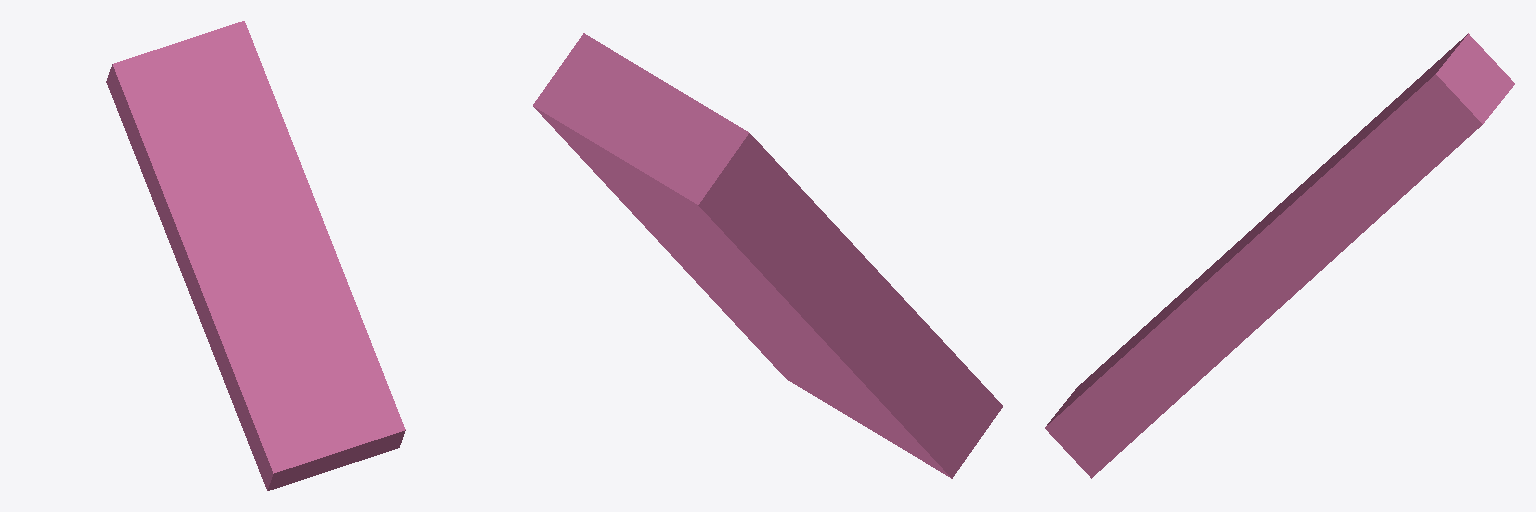
The robot description file, URDF, robot "panda":
<?xml version="1.0"?>
<!-- =================================================================================== -->
<!-- |    This document was autogenerated by xacro from /opt/ros/noetic/share/franka_description/robots/panda/panda.urdf.xacro | -->
<!-- |    EDITING THIS FILE BY HAND IS NOT RECOMMENDED                                 | -->
<!-- =================================================================================== -->
<robot name="panda">
    <!-- sub-link defining detailed meshes for collision with environment -->
    <link name="panda_link0">
        <visual>
            <geometry>
                <mesh filename="package://franka_description/meshes/visual/link0.dae" />
            </geometry>
        </visual>
        <collision>
            <geometry>
                <mesh filename="package://franka_description/meshes/collision/link0.stl" />
            </geometry>
        </collision>
        <inertial>
            <origin rpy="0 0 0" xyz="-0.0 -0.0000 0.00" />
            <mass value="0.629769" />
            <inertia ixx="0.00315" ixy="8.2904e-07" ixz="0.00015" iyy="0.00388" iyz="8.2299e-06" izz="0.004285" />
        </inertial>
    </link>
    <!-- sub-link defining coarse geometries of real robot's internal self-collision -->
    <link name="panda_link0_sc"></link>
    <!-- fixed joint between both sub-links -->
    <joint name="panda_link0_sc_joint" type="fixed">
        <origin rpy="0 0 0" />
        <parent link="panda_link0" />
        <child link="panda_link0_sc" />
    </joint>
    <!-- sub-link defining detailed meshes for collision with environment -->
    <link name="panda_link1">
        <visual>
            <geometry>
                <mesh filename="package://franka_description/meshes/visual/link1.dae" />
            </geometry>
        </visual>
        <collision>
            <geometry>
                <mesh filename="package://franka_description/meshes/collision/link1.stl" />
            </geometry>
        </collision>
        <inertial>
            <origin rpy="0 0 0" xyz="0.003875 0.002081 -0.04762" />
            <mass value="4.970684" />
            <inertia ixx="0.70337" ixy="-0.000139" ixz="0.006772" iyy="0.70661" iyz="0.019169" izz="0.009117" />
        </inertial>
    </link>
    <!-- sub-link defining coarse geometries of real robot's internal self-collision -->
    <link name="panda_link1_sc"></link>
    <!-- fixed joint between both sub-links -->
    <joint name="panda_link1_sc_joint" type="fixed">
        <origin rpy="0 0 0" />
        <parent link="panda_link1" />
        <child link="panda_link1_sc" />
    </joint>
    <joint name="panda_joint1" type="revolute">
        <origin rpy="0 0 0" xyz="0 0 0.333" />
        <parent link="panda_link0" />
        <child link="panda_link1" />
        <axis xyz="0 0 1" />
        <limit effort="87.0" lower="-2.8973" upper="2.8973" velocity="2.175" />
        <safety_controller k_position="100.0" k_velocity="40.0" soft_lower_limit="-2.8973" soft_upper_limit="2.8973" />
        <dynamics D="1" K="7000" damping="0.003" friction="0.0" mu_coulomb="0" mu_viscous="16" />
    </joint>
    <!-- sub-link defining detailed meshes for collision with environment -->
    <link name="panda_link2">
        <visual>
            <geometry>
                <mesh filename="package://franka_description/meshes/visual/link2.dae" />
            </geometry>
        </visual>
        <collision>
            <geometry>
                <mesh filename="package://franka_description/meshes/collision/link2.stl" />
            </geometry>
        </collision>
        <inertial>
            <origin rpy="0 0 0" xyz="-0.003141 -0.02872  0.003495" />
            <mass value="0.646926" />
            <inertia ixx="0.007962" ixy="-0.003925" ixz="0.010254" iyy="0.02811" iyz="0.000704" izz="0.025995" />
        </inertial>
    </link>
    <!-- sub-link defining coarse geometries of real robot's internal self-collision -->
    <link name="panda_link2_sc"></link>
    <!-- fixed joint between both sub-links -->
    <joint name="panda_link2_sc_joint" type="fixed">
        <origin rpy="0 0 0" />
        <parent link="panda_link2" />
        <child link="panda_link2_sc" />
    </joint>
    <joint name="panda_joint2" type="revolute">
        <origin rpy="-1.5707963267948966 0 0" xyz="0 0 0" />
        <parent link="panda_link1" />
        <child link="panda_link2" />
        <axis xyz="0 0 1" />
        <limit effort="87.0" lower="-1.7628" upper="1.7628" velocity="2.175" />
        <safety_controller k_position="100.0" k_velocity="40.0" soft_lower_limit="-1.7628" soft_upper_limit="1.7628" />
        <dynamics D="1" K="7000" damping="0.003" friction="0.0" mu_coulomb="0" mu_viscous="16" />
    </joint>
    <!-- sub-link defining detailed meshes for collision with environment -->
    <link name="panda_link3">
        <visual>
            <geometry>
                <mesh filename="package://franka_description/meshes/visual/link3.dae" />
            </geometry>
        </visual>
        <collision>
            <geometry>
                <mesh filename="package://franka_description/meshes/collision/link3.stl" />
            </geometry>
        </collision>
        <inertial>
            <origin rpy="0 0 0" xyz="2.7518e-02 3.9252e-02 -6.6502e-02" />
            <mass value="3.228604" />
            <inertia ixx="0.037242" ixy="-0.004761" ixz="-0.011396" iyy="0.036155" iyz="-0.012805" izz="0.01083" />
        </inertial>
    </link>
    <!-- sub-link defining coarse geometries of real robot's internal self-collision -->
    <link name="panda_link3_sc"></link>
    <!-- fixed joint between both sub-links -->
    <joint name="panda_link3_sc_joint" type="fixed">
        <origin rpy="0 0 0" />
        <parent link="panda_link3" />
        <child link="panda_link3_sc" />
    </joint>
    <joint name="panda_joint3" type="revolute">
        <origin rpy="1.5707963267948966 0 0" xyz="0 -0.316 0" />
        <parent link="panda_link2" />
        <child link="panda_link3" />
        <axis xyz="0 0 1" />
        <limit effort="87.0" lower="-2.8973" upper="2.8973" velocity="2.175" />
        <safety_controller k_position="100.0" k_velocity="40.0" soft_lower_limit="-2.8973" soft_upper_limit="2.8973" />
        <dynamics D="1" K="7000" damping="0.003" friction="0.0" mu_coulomb="0" mu_viscous="16" />
    </joint>
    <!-- sub-link defining detailed meshes for collision with environment -->
    <link name="panda_link4">
        <visual>
            <geometry>
                <mesh filename="package://franka_description/meshes/visual/link4.dae" />
            </geometry>
        </visual>
        <collision>
            <geometry>
                <mesh filename="package://franka_description/meshes/collision/link4.stl" />
            </geometry>
        </collision>
        <inertial>
            <origin rpy="0 0 0" xyz="-5.317e-02 1.04419e-01 2.7454e-02" />
            <mass value="3.587895" />
            <inertia ixx="0.025853" ixy="0.007796" ixz="-0.001332" iyy="0.019552" iyz="0.008641" izz="0.028323" />
        </inertial>
    </link>
    <!-- sub-link defining coarse geometries of real robot's internal self-collision -->
    <link name="panda_link4_sc"></link>
    <!-- fixed joint between both sub-links -->
    <joint name="panda_link4_sc_joint" type="fixed">
        <origin rpy="0 0 0" />
        <parent link="panda_link4" />
        <child link="panda_link4_sc" />
    </joint>
    <joint name="panda_joint4" type="revolute">
        <origin rpy="1.5707963267948966 0 0" xyz="0.0825 0 0" />
        <parent link="panda_link3" />
        <child link="panda_link4" />
        <axis xyz="0 0 1" />
        <limit effort="87.0" lower="-3.0718" upper="-0.0698" velocity="2.175" />
        <safety_controller k_position="100.0" k_velocity="40.0" soft_lower_limit="-3.0718" soft_upper_limit="-0.0698" />
        <dynamics D="1" K="7000" damping="0.003" friction="0.0" mu_coulomb="0" mu_viscous="16" />
    </joint>
    <!-- sub-link defining detailed meshes for collision with environment -->
    <link name="panda_link5">
        <visual>
            <geometry>
                <mesh filename="package://franka_description/meshes/visual/link5.dae" />
            </geometry>
        </visual>
        <collision>
            <geometry>
                <mesh filename="package://franka_description/meshes/collision/link5.stl" />
            </geometry>
        </collision>
        <inertial>
            <origin rpy="0 0 0" xyz="-1.1953e-02 4.1065e-02 -3.8437e-02" />
            <mass value="1.225946" />
            <inertia ixx="0.035549" ixy="-0.002117" ixz="-0.004037" iyy="0.029474" iyz="0.000229" izz="0.008627" />
        </inertial>
    </link>
    <!-- sub-link defining coarse geometries of real robot's internal self-collision -->
    <link name="panda_link5_sc"></link>
    <!-- fixed joint between both sub-links -->
    <joint name="panda_link5_sc_joint" type="fixed">
        <origin rpy="0 0 0" />
        <parent link="panda_link5" />
        <child link="panda_link5_sc" />
    </joint>
    <joint name="panda_joint5" type="revolute">
        <origin rpy="-1.5707963267948966 0 0" xyz="-0.0825 0.384 0" />
        <parent link="panda_link4" />
        <child link="panda_link5" />
        <axis xyz="0 0 1" />
        <limit effort="12.0" lower="-2.8973" upper="2.8973" velocity="2.61" />
        <safety_controller k_position="100.0" k_velocity="40.0" soft_lower_limit="-2.8973" soft_upper_limit="2.8973" />
        <dynamics D="1" K="7000" damping="0.003" friction="0.0" mu_coulomb="0" mu_viscous="16" />
    </joint>
    <!-- sub-link defining detailed meshes for collision with environment -->
    <link name="panda_link6">
        <visual>
            <geometry>
                <mesh filename="package://franka_description/meshes/visual/link6.dae" />
            </geometry>
        </visual>
        <collision>
            <geometry>
                <mesh filename="package://franka_description/meshes/collision/link6.stl" />
            </geometry>
        </collision>
        <inertial>
            <origin rpy="0 0 0" xyz="6.0149e-02 -1.4117e-02 -1.0517e-02" />
            <mass value="1.666555" />
            <inertia ixx="0.001964" ixy="0.000109" ixz="-0.001158" iyy="0.004354" iyz="0.000341" izz="0.005433" />
        </inertial>
    </link>
    <!-- sub-link defining coarse geometries of real robot's internal self-collision -->
    <link name="panda_link6_sc"></link>
    <!-- fixed joint between both sub-links -->
    <joint name="panda_link6_sc_joint" type="fixed">
        <origin rpy="0 0 0" />
        <parent link="panda_link6" />
        <child link="panda_link6_sc" />
    </joint>
    <joint name="panda_joint6" type="revolute">
        <origin rpy="1.5707963267948966 0 0" xyz="0 0 0" />
        <parent link="panda_link5" />
        <child link="panda_link6" />
        <axis xyz="0 0 1" />
        <limit effort="12.0" lower="-0.0175" upper="3.7525" velocity="2.61" />
        <safety_controller k_position="100.0" k_velocity="40.0" soft_lower_limit="-0.0175" soft_upper_limit="3.7525" />
        <dynamics D="1" K="7000" damping="0.003" friction="0.0" mu_coulomb="0" mu_viscous="16" />
    </joint>
    <!-- sub-link defining detailed meshes for collision with environment -->
    <link name="panda_link7">
        <visual>
            <geometry>
                <mesh filename="package://franka_description/meshes/visual/link7.dae" />
            </geometry>
        </visual>
        <collision>
            <geometry>
                <mesh filename="package://franka_description/meshes/collision/link7.stl" />
            </geometry>
        </collision>
        <inertial>
            <origin rpy="0 0 0" xyz="1.0517e-02 -4.252e-03 6.1597e-02" />
            <mass value="0.735522" />
            <inertia ixx="0.012516" ixy="-0.000428" ixz="-0.001196" iyy="0.010027" iyz="-0.000741" izz="0.004815" />
        </inertial>
    </link>
    <!-- sub-link defining coarse geometries of real robot's internal self-collision -->
    <link name="panda_link7_sc"></link>
    <!-- fixed joint between both sub-links -->
    <joint name="panda_link7_sc_joint" type="fixed">
        <origin rpy="0 0 0.7853981633974483" />
        <parent link="panda_link7" />
        <child link="panda_link7_sc" />
    </joint>
    <joint name="panda_joint7" type="revolute">
        <origin rpy="1.5707963267948966 0 0" xyz="0.088 0 0" />
        <parent link="panda_link6" />
        <child link="panda_link7" />
        <axis xyz="0 0 1" />
        <limit effort="12.0" lower="-2.8973" upper="2.8973" velocity="2.61" />
        <safety_controller k_position="100.0" k_velocity="40.0" soft_lower_limit="-2.8973" soft_upper_limit="2.8973" />
        <dynamics D="1" K="7000" damping="0.003" friction="0.0" mu_coulomb="0" mu_viscous="16" />
    </joint>
    <link name="panda_link8" />
    <joint name="panda_joint8" type="fixed">
        <origin rpy="0 0 0" xyz="0 0 0.107" />
        <parent link="panda_link7" />
        <child link="panda_link8" />
    </joint>
    <joint name="panda_hand_joint" type="fixed">
        <parent link="panda_link8" />
        <child link="panda_hand" />
        <origin rpy="0 0 -0.7853981633974483" xyz="0 0 0" />
    </joint>
    <!-- sub-link defining detailed meshes for collision with environment -->
    <link name="panda_hand">
        <visual>
            <geometry>
                <mesh filename="package://franka_description/meshes/visual/hand.dae" />
            </geometry>
        </visual>
        <collision>
            <geometry>
                <mesh filename="package://franka_description/meshes/collision/hand.stl" />
            </geometry>
        </collision>
        <inertial>
            <origin rpy="0 0 0" xyz="-0.01 0 0.03" />
            <mass value="0.73" />
            <inertia ixx="0.001" ixy="0" ixz="0" iyy="0.0025" iyz="0" izz="0.0017" />
        </inertial>
    </link>
    <!-- sub-link defining coarse geometries of real robot's internal self-collision -->
    <link name="panda_hand_sc"></link>
    <!-- fixed joint between both sub-links -->
    <joint name="panda_hand_sc_joint" type="fixed">
        <origin rpy="0 0 0" />
        <parent link="panda_hand" />
        <child link="panda_hand_sc" />
    </joint>
    <!-- Define the hand_tcp frame -->
    <link name="panda_hand_tcp" />
    <joint name="panda_hand_tcp_joint" type="fixed">
        <origin rpy="0 0 0" xyz="0 0 0.1034" />
        <parent link="panda_hand" />
        <child link="panda_hand_tcp" />
    </joint>
    <link name="panda_leftfinger">
        <visual>
            <geometry>
                <mesh filename="package://franka_description/meshes/visual/finger.dae" />
            </geometry>
        </visual>
        <!-- screw mount -->
        <collision>
            <origin rpy="0 0 0" xyz="0 18.5e-3 11e-3" />
            <geometry>
                <box size="22e-3 15e-3 20e-3" />
            </geometry>
        </collision>
        <!-- cartriage sledge -->
        <collision>
            <origin rpy="0 0 0" xyz="0 6.8e-3 2.2e-3" />
            <geometry>
                <box size="22e-3 8.8e-3 3.8e-3" />
            </geometry>
        </collision>
        <!-- diagonal finger -->
        <collision>
            <origin rpy="0.5235987755982988 0 0" xyz="0 15.9e-3 28.35e-3" />
            <geometry>
                <box size="17.5e-3 7e-3 23.5e-3" />
            </geometry>
        </collision>
        <!-- rubber tip with which to grasp -->
        <collision>
            <origin rpy="0 0 0" xyz="0 7.58e-3 45.25e-3" />
            <geometry>
                <box size="17.5e-3 15.2e-3 18.5e-3" />
            </geometry>
            <contact>
                <friction_anchor/>
                <lateral_friction value="0.95"/>
                <rolling_friction value="30.0"/>
                <spinning_friction value="30.0"/>
            </contact>
        </collision>
        <inertial>
            <origin rpy="0 0 0" xyz="0 0 0" />
            <mass value="0.015" />
            <inertia ixx="2.3749999999999997e-06" ixy="0" ixz="0" iyy="2.3749999999999997e-06" iyz="0" izz="7.5e-07" />
        </inertial>
    </link>
    <link name="panda_rightfinger">
        <visual>
            <origin rpy="0 0 3.141592653589793" xyz="0 0 0" />
            <geometry>
                <mesh filename="package://franka_description/meshes/visual/finger.dae" />
            </geometry>
        </visual>
        <!-- screw mount -->
        <collision>
            <origin rpy="0 0 0" xyz="0 -18.5e-3 11e-3" />
            <geometry>
                <box size="22e-3 15e-3 20e-3" />
            </geometry>
        </collision>
        <!-- cartriage sledge -->
        <collision>
            <origin rpy="0 0 0" xyz="0 -6.8e-3 2.2e-3" />
            <geometry>
                <box size="22e-3 8.8e-3 3.8e-3" />
            </geometry>
        </collision>
        <!-- diagonal finger -->
        <collision>
            <origin rpy="-0.5235987755982988 0 0" xyz="0 -15.9e-3 28.35e-3" />
            <geometry>
                <box size="17.5e-3 7e-3 23.5e-3" />
            </geometry>
        </collision>
        <!-- rubber tip with which to grasp -->
        <collision>
            <origin rpy="0 0 0" xyz="0 -7.58e-3 45.25e-3" />
            <geometry>
                <box size="17.5e-3 15.2e-3 18.5e-3" />
            </geometry>
            <contact>
                <friction_anchor/>
                <lateral_friction value="0.95"/>
                <rolling_friction value="30.0"/>
                <spinning_friction value="30.0"/>
            </contact>
        </collision>
        <inertial>
            <origin rpy="0 0 0" xyz="0 0 0" />
            <mass value="0.015" />
            <inertia ixx="2.3749999999999997e-06" ixy="0" ixz="0" iyy="2.3749999999999997e-06" iyz="0" izz="7.5e-07" />
        </inertial>
    </link>
    <joint name="panda_finger_joint1" type="prismatic">
        <parent link="panda_hand" />
        <child link="panda_leftfinger" />
        <origin rpy="0 0 0" xyz="0 0 0.0584" />
        <axis xyz="0 1 0" />
        <limit effort="100" lower="0.0" upper="0.04" velocity="0.2" />
        <dynamics damping="0.3" />
    </joint>
    <joint name="panda_finger_joint2" type="prismatic">
        <parent link="panda_hand" />
        <child link="panda_rightfinger" />
        <origin rpy="0 0 0" xyz="0 0 0.0584" />
        <axis xyz="0 -1 0" />
        <limit effort="100" lower="0.0" upper="0.04" velocity="0.2" />
        <mimic joint="panda_finger_joint1" />
        <dynamics damping="0.3" />
    </joint>

    <joint name="camera_joint" type='fixed'>
	  <parent link="panda_hand"/>
	  <child link="gripper_cam"/>
	  <origin xyz="-0.1 0 0" rpy="1.3  0 -1.57"/>
    </joint>

	 <link name="gripper_cam">
		<inertial>
			<origin rpy="0 0 0" xyz="0 0.0 0.0"/>
			<mass value="0.2"/>
			<inertia ixx="0.1" ixy="0" ixz="0" iyy="0.1" iyz="0" izz="0.1"/>
		</inertial>

		<visual>
		  <origin rpy="0 0 0" xyz="0 0 0"/>
		  <geometry>
			<box size=".08 .025 0.01"/>
		  </geometry>
		  <material name="panda_white"/>
		</visual>

	 </link>
</robot>

--- What the picture shows (computed from the rendered views, not written in the file) ---
3 views of the same robot in one strip: view 1: azimuth 30°, elevation 25°; view 2: azimuth 150°, elevation 25°; view 3: azimuth 270°, elevation 25° (orthographic).
Robot: panda — 23 links, 22 joints (7 revolute, 2 prismatic, 13 fixed); root link panda_link0; default pose: all joints at 0 but 1 set to mid-range because 0 is outside their limits (panda_joint4 = -1.57).
Links seen in each view (by area): view 1: gripper_cam; view 2: gripper_cam; view 3: gripper_cam.
Link boxes in pixels (left/top/right/bottom): gripper_cam: left=106, top=21, right=405, bottom=490; gripper_cam: left=533, top=33, right=1002, bottom=478; gripper_cam: left=1045, top=33, right=1514, bottom=478.
Bounding box of the posed robot: 0.0268 × 0.0681 × 0.0681 m (x, y, z).
0 mesh visuals loaded from 10 distinct referenced files (none loaded); not drawn: 11 (reference not matched to a file when rendering).